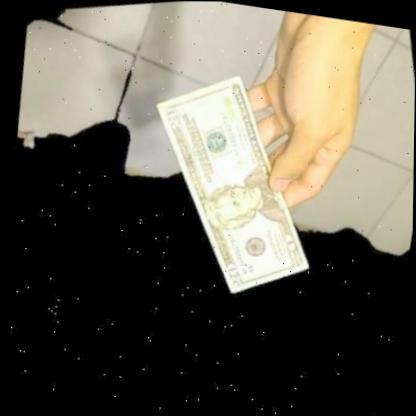twenty-front: (117, 50, 341, 317)
